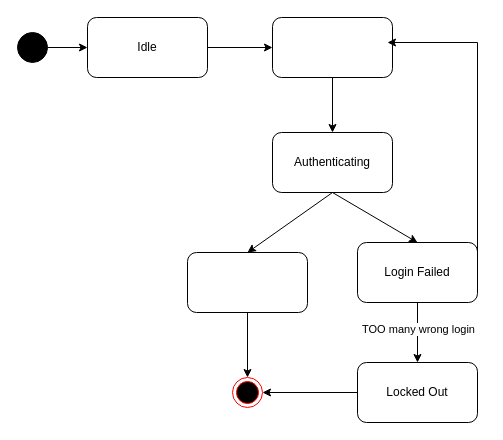
Image size: 503x440. Some labels were removed from this diagram. The shapes that lost their labels are listed below. From the top down, each one's centre as x and y in pixels, then its label:
At (332,47): "User Input".
At (247,282): "Login Successful".
